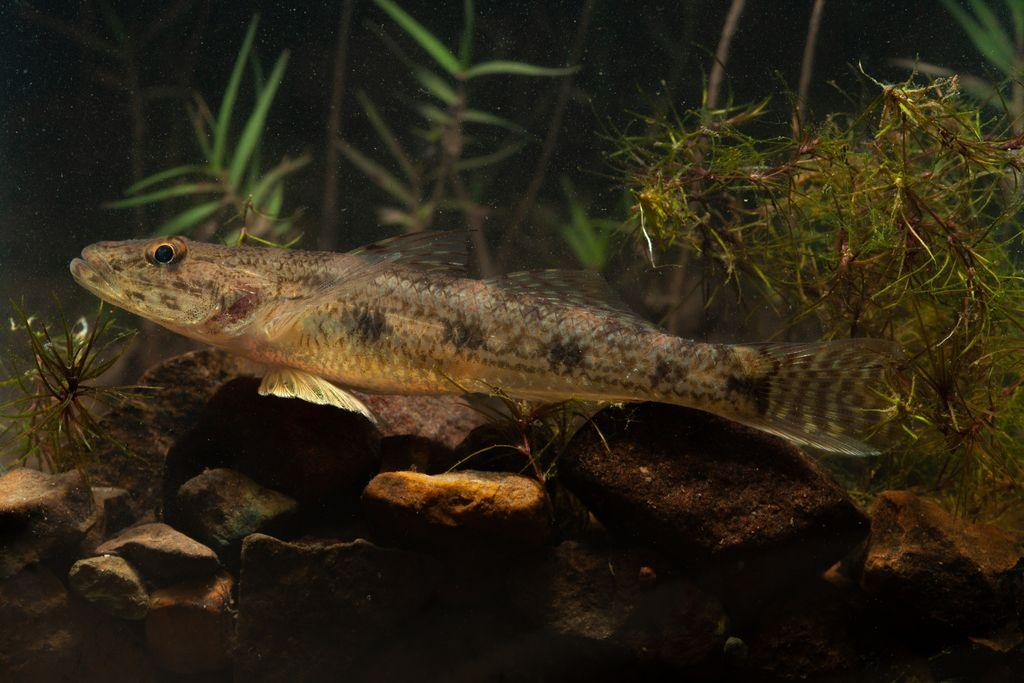Goby: (69, 205, 895, 478)
